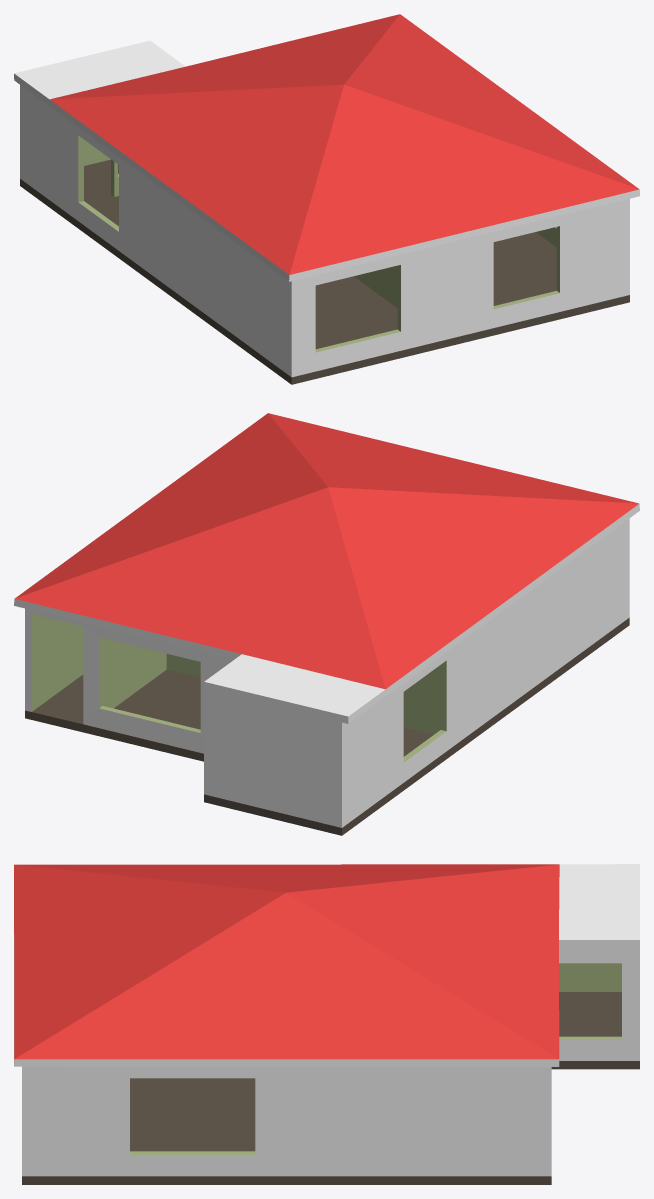
File: NuevaCasa.fbx
3 views of the same model, one above another, from view 1: azimuth 30°, elevation 25°; view 2: azimuth 150°, elevation 25°; view 3: azimuth 270°, elevation 25° (orthographic). The views are drawn at different scales.
Parts seen in each view (by area): view 1: Cube.011; view 2: Cube.011; view 3: Cube.011.
Boxes of the visible parts, bbox=[...] form: Cube.011: bbox=[14, 14, 639, 384]; Cube.011: bbox=[14, 413, 639, 835]; Cube.011: bbox=[14, 864, 639, 1184].
Bounding box in the file's own units: 11 × 5.21 × 14.93.
